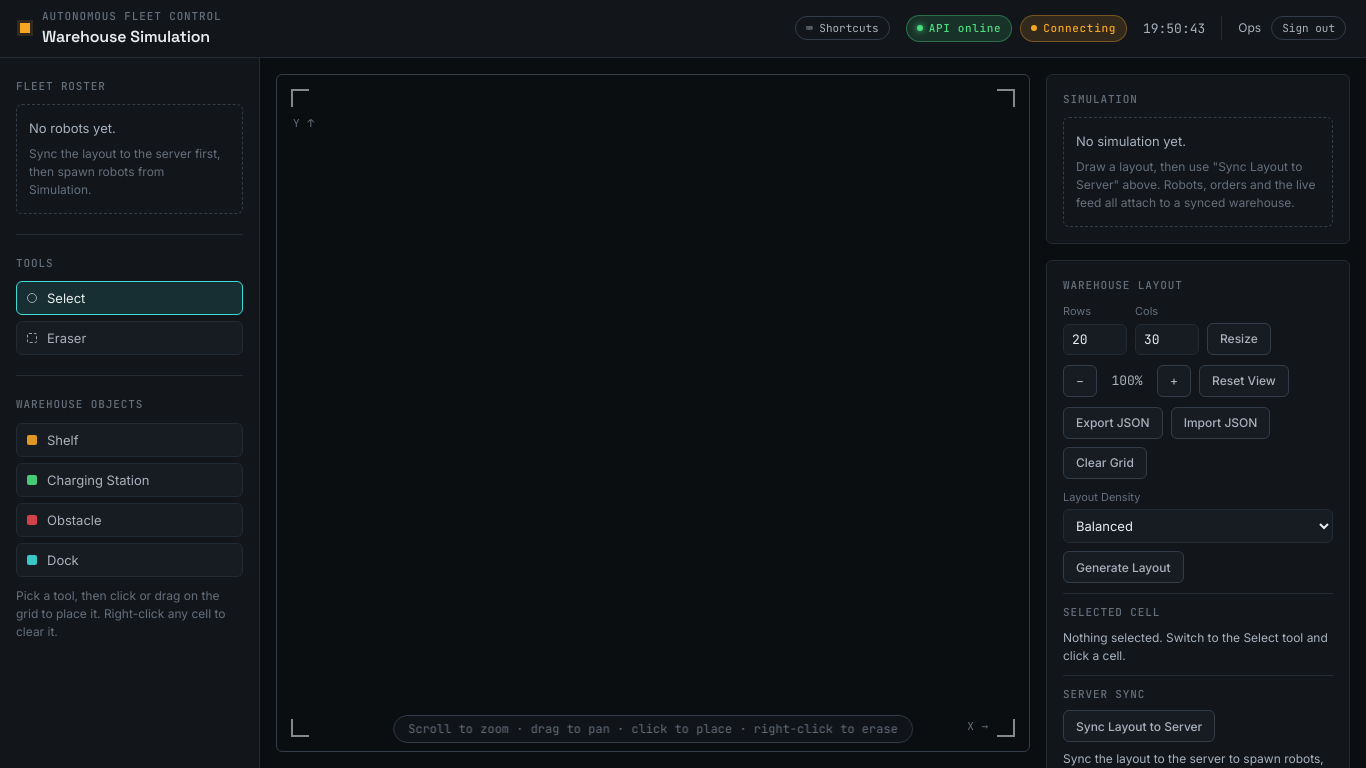
Test: API failure and unauthorized responses › drops back to the sign-in gate when the session is gone for good
Click the button "Sync Layout to Server".
click(1139, 726)  # box [1063, 710, 1215, 742]
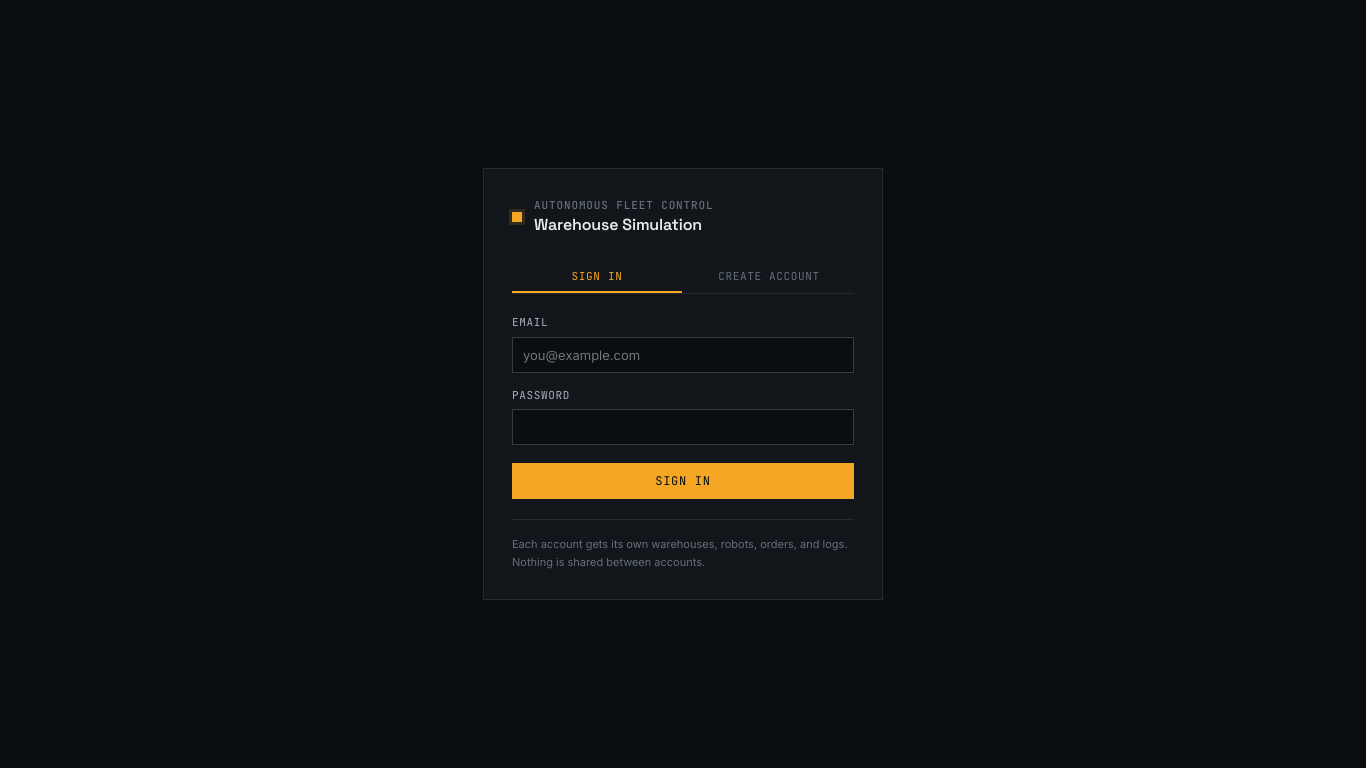
Result: the button "Sign in" below "Password" is shown at [512, 463, 854, 499]
